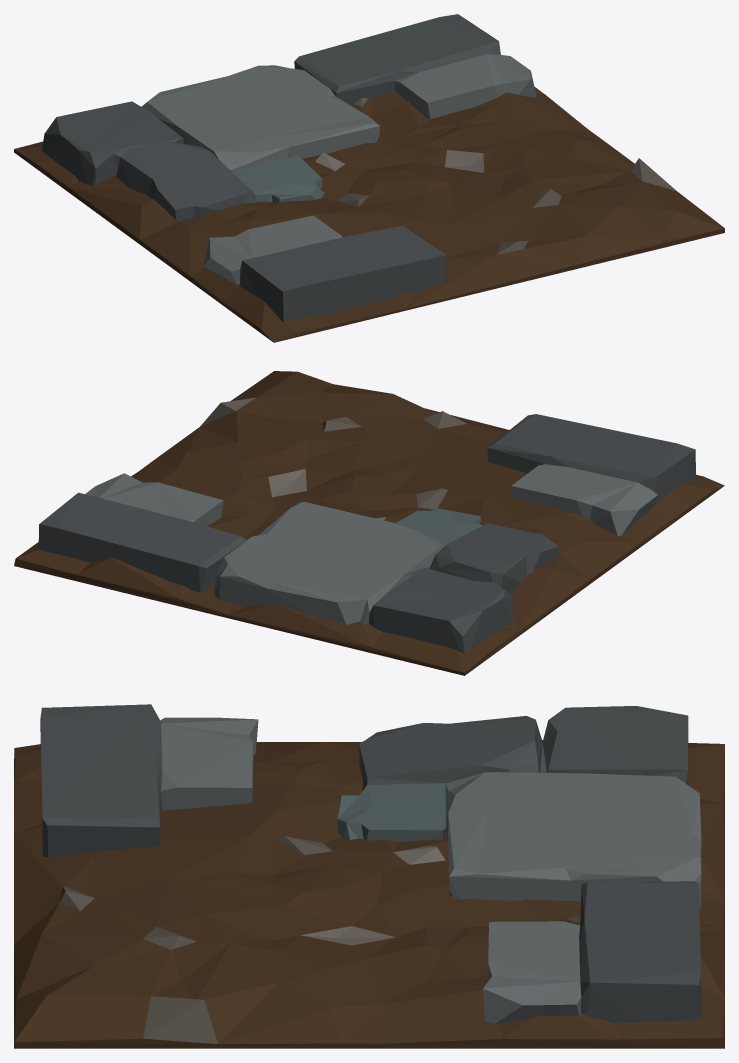
Rendered from MDungeon_SoilGroundTile_Stone_01.FBX.
3 views of the same model, one above another, from view 1: azimuth 30°, elevation 25°; view 2: azimuth 150°, elevation 25°; view 3: azimuth 270°, elevation 25° (orthographic). The views are drawn at different scales.
Visible parts, largest first — view 1: MDungeon_SoilGroundTile_Stone_01_LOD0; view 2: MDungeon_SoilGroundTile_Stone_01_LOD0; view 3: MDungeon_SoilGroundTile_Stone_01_LOD0.
Boxes of the visible parts, x1,y1,x2,y2 form: MDungeon_SoilGroundTile_Stone_01_LOD0: [14, 14, 724, 342]; MDungeon_SoilGroundTile_Stone_01_LOD0: [14, 371, 724, 675]; MDungeon_SoilGroundTile_Stone_01_LOD0: [14, 704, 724, 1048].
Size of what is drawn, in the model's own units: 6.27 by 0.616 by 6.27.
